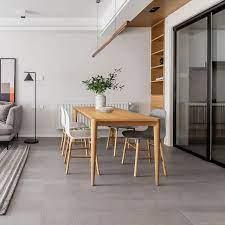desk: (51, 81, 178, 197)
